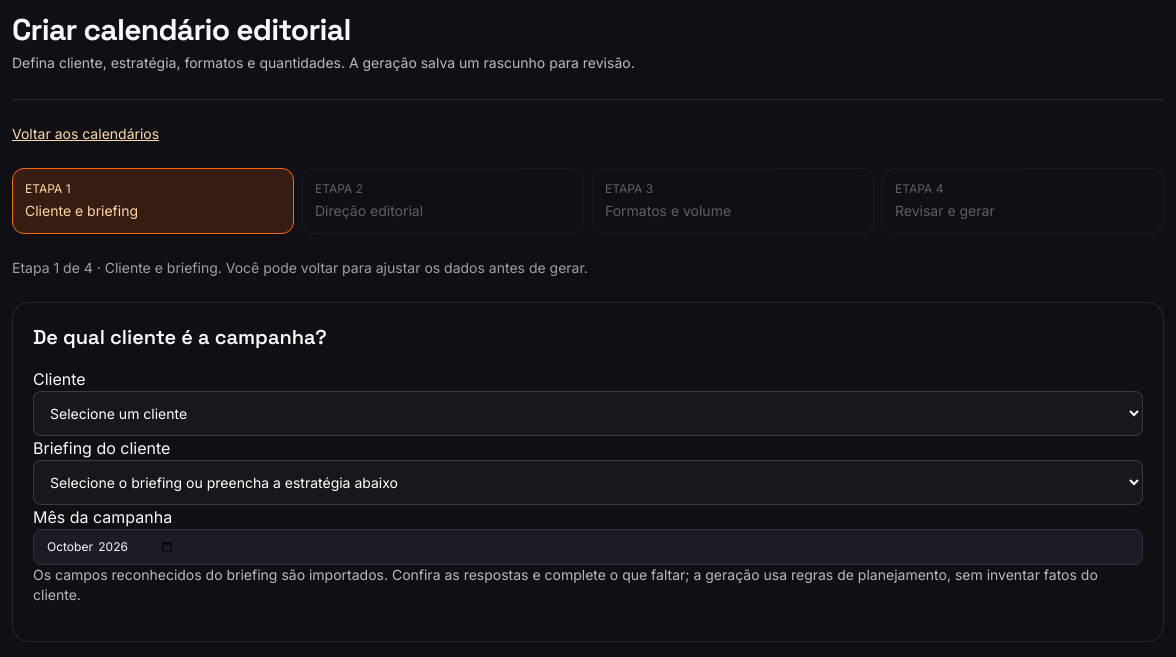
Test: does not replace a human edit when a briefing response arrives later
Select "Cliente A" in the dropdown labelled "Cliente" at (588, 413), box x1=33 y1=391 x2=1143 y2=436
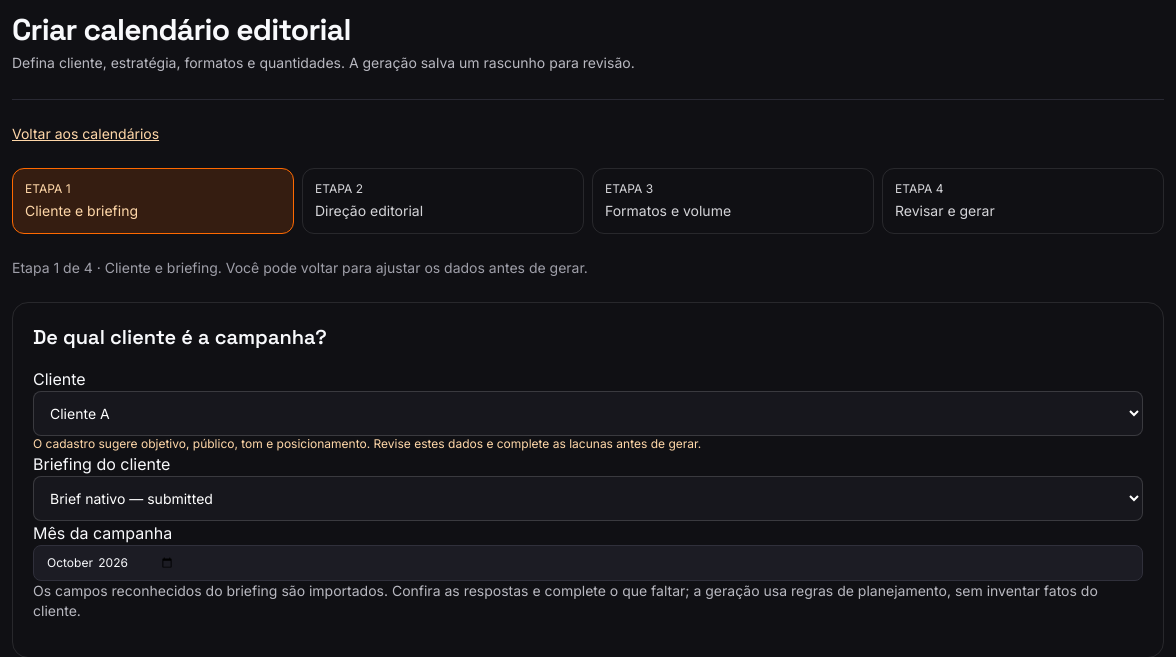
Click the button "ETAPA 2 Direção editorial" at (335, 188), box x1=302 y1=168 x2=584 y2=234
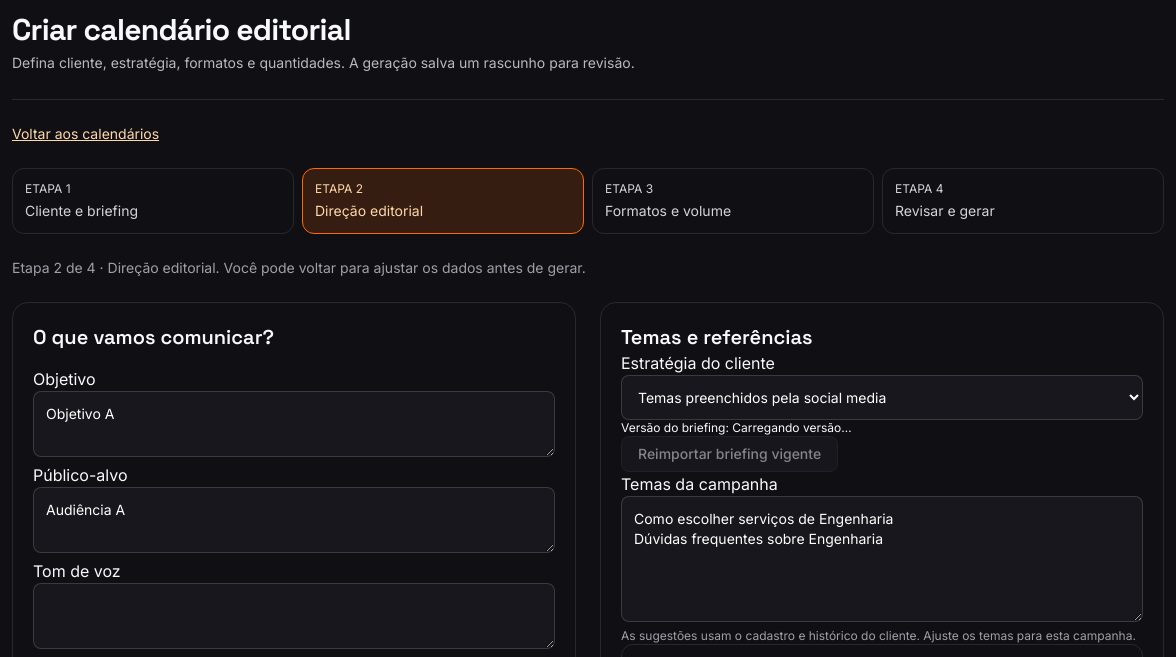
Replace the text in the text box labelled "Objetivo" with "Objetivo humano preservado" at (294, 424), box x1=33 y1=391 x2=555 y2=457
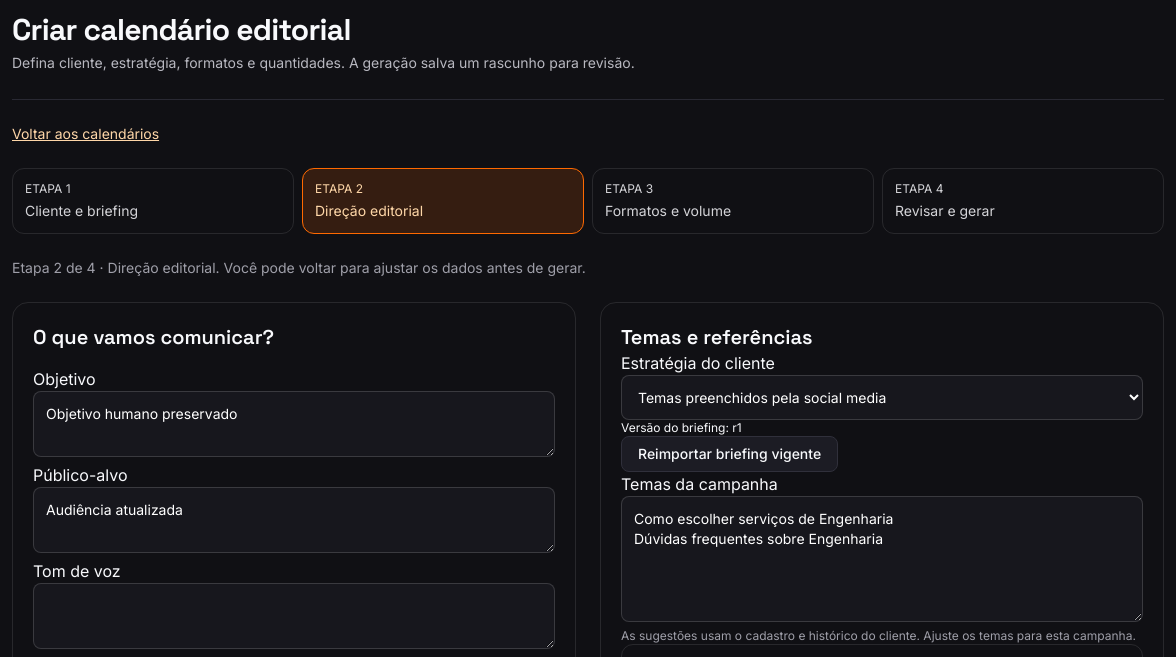
Expected: the text box labelled "Público-alvo" holds "Audiência atualizada", x1=33 y1=487 x2=555 y2=553
